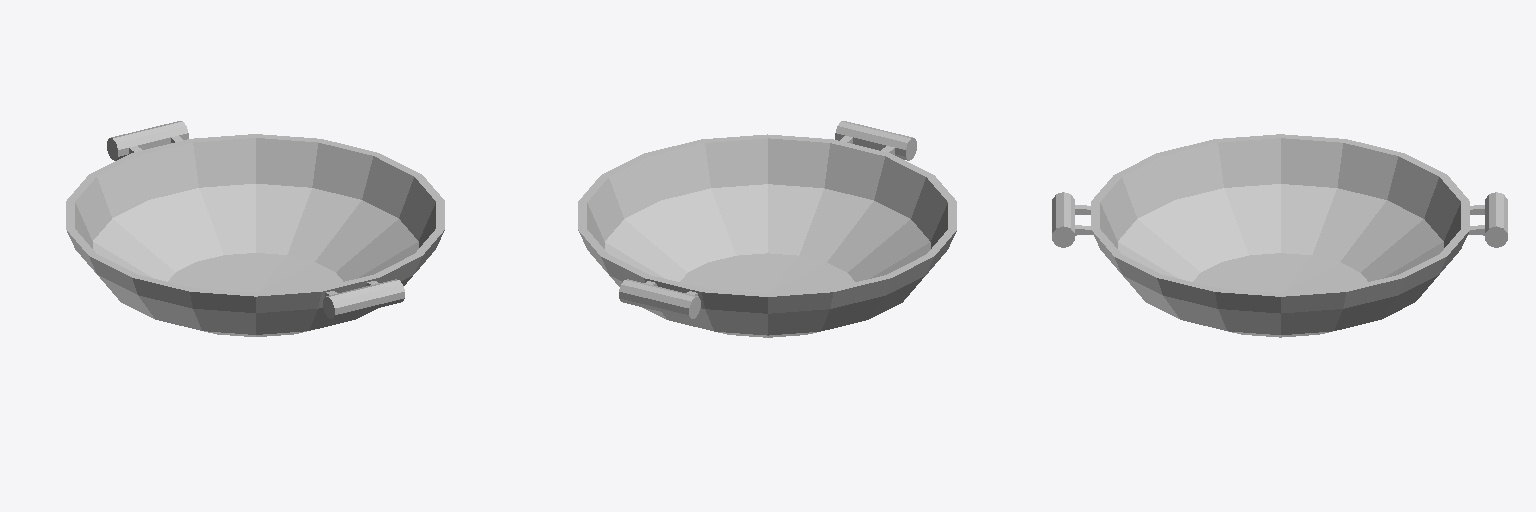
Rendered from Kitchen_wok.obj.
3 views of the same model, side by side, from view 1: azimuth 30°, elevation 25°; view 2: azimuth 150°, elevation 25°; view 3: azimuth 270°, elevation 25° (orthographic).
Visible parts, largest first — view 1: pSphere2; view 2: pSphere2; view 3: pSphere2.
Part boxes in pixels (bbox=[...]): pSphere2: bbox=[66, 121, 444, 336]; pSphere2: bbox=[578, 121, 956, 337]; pSphere2: bbox=[1052, 134, 1507, 337].
Bounding box in the file's own units: 2.99 × 0.8026 × 3.54.